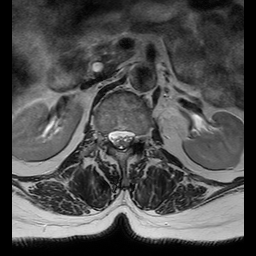CCS_normal: (117, 122, 125, 158)
LFS_normal: (134, 123, 143, 150)
LLS_normal: (125, 122, 134, 153)
RFS_normal: (99, 123, 108, 150)
RLS_normal: (108, 121, 117, 151)
